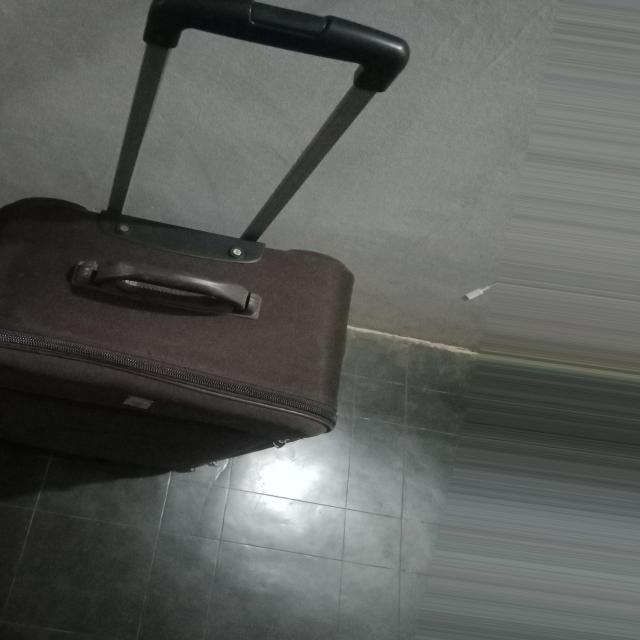Suitcase: (1, 0, 434, 471)
